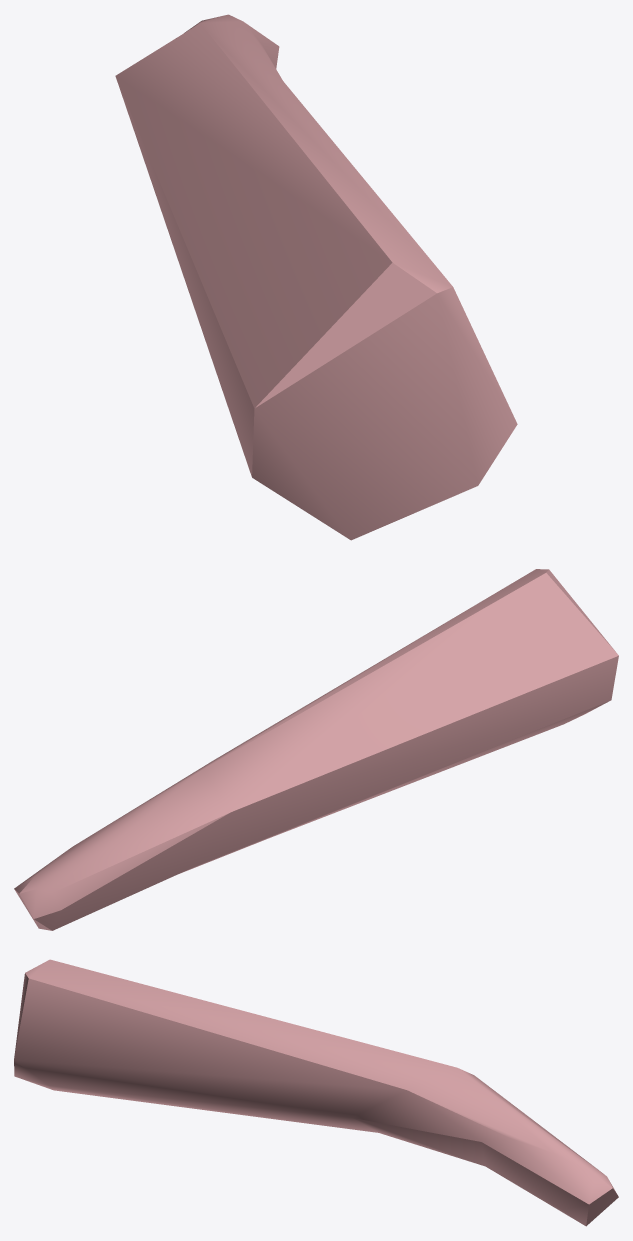
The model's file is fma68224_fj6521.glb.
The picture shows the model from 3 angles, top to bottom: view 1: azimuth 30°, elevation 25°; view 2: azimuth 150°, elevation 25°; view 3: azimuth 270°, elevation 25°; orthographic projection. The views are drawn at different scales.
Parts seen in each view (by area): view 1: FMA68224_FJ6521; view 2: FMA68224_FJ6521; view 3: FMA68224_FJ6521.
Part boxes in pixels (box(x1,y1,x2,y2)): FMA68224_FJ6521: box(115, 14, 517, 540); FMA68224_FJ6521: box(14, 569, 618, 930); FMA68224_FJ6521: box(14, 959, 618, 1226).
Size of the model in its own units: 0.00886 by 0.00523 by 0.0165.
